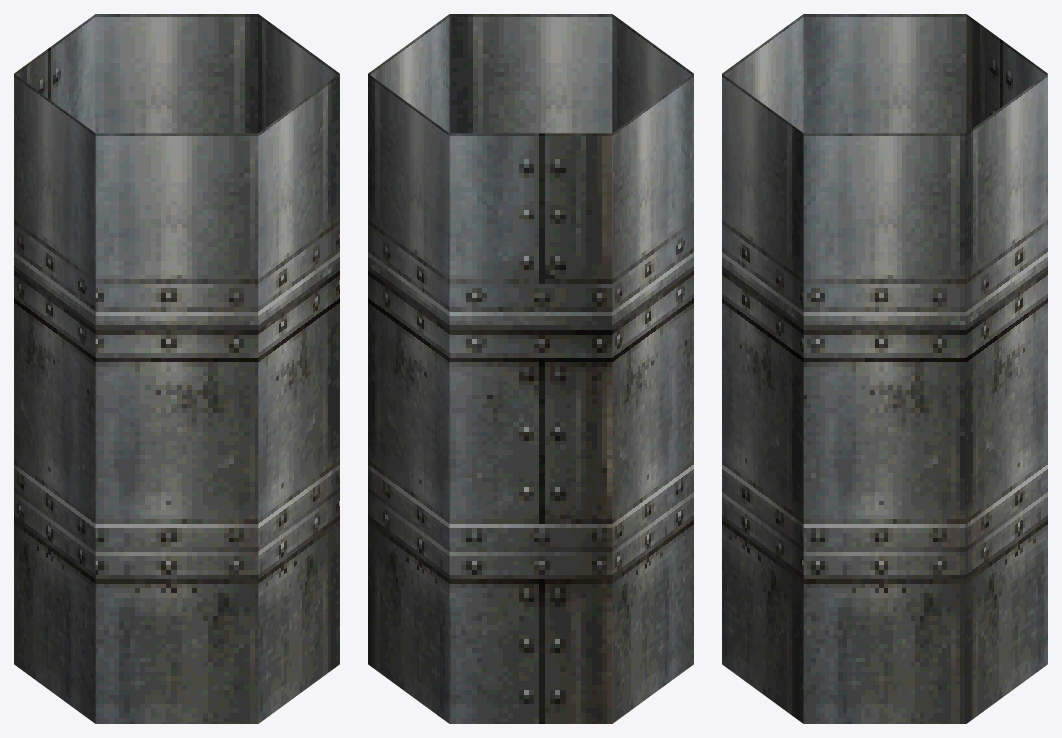
Rendered from pipe.glb.
3 views of the same model, side by side, from view 1: azimuth 30°, elevation 25°; view 2: azimuth 150°, elevation 25°; view 3: azimuth 270°, elevation 25° (orthographic).
Parts seen in each view (by area): view 1: pipe; view 2: pipe; view 3: pipe.
Boxes of the visible parts, left/top/right/bottom form: pipe: left=14, top=14, right=339, bottom=723; pipe: left=368, top=14, right=693, bottom=723; pipe: left=722, top=14, right=1047, bottom=723.
Bounding box in the file's own units: 0.433 × 1 × 0.5.
1 material, 1 textured.
